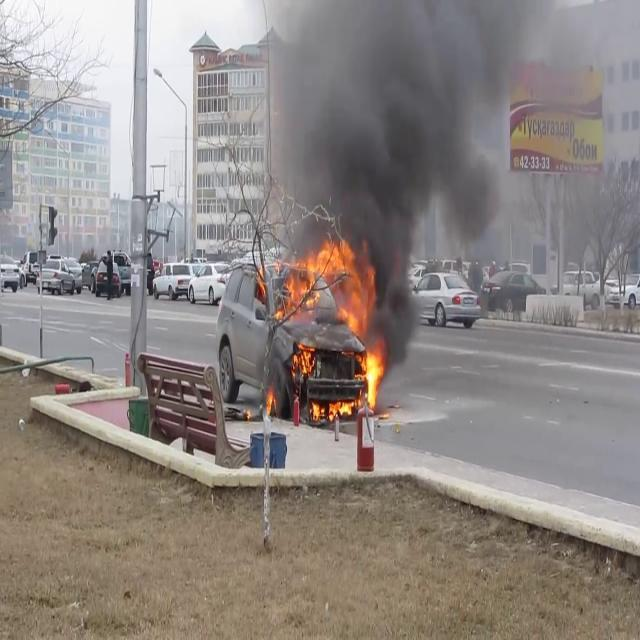Fire: (276, 231, 392, 426)
Smoke: (258, 0, 514, 263)
